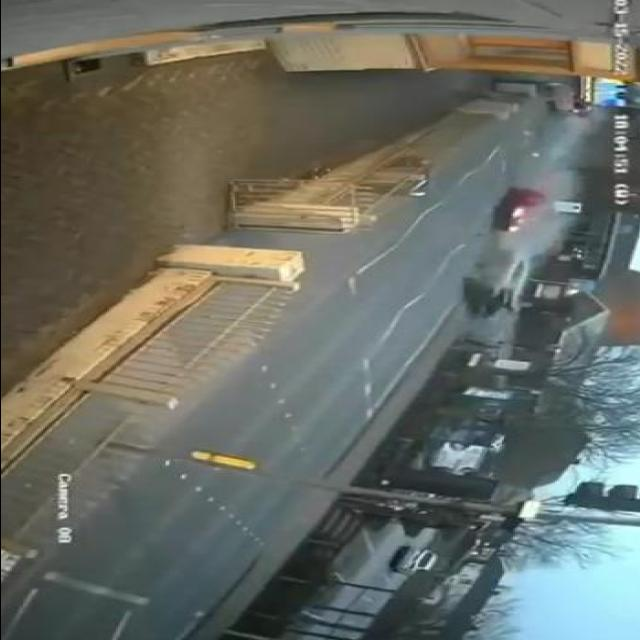accident: (444, 185, 556, 319)
